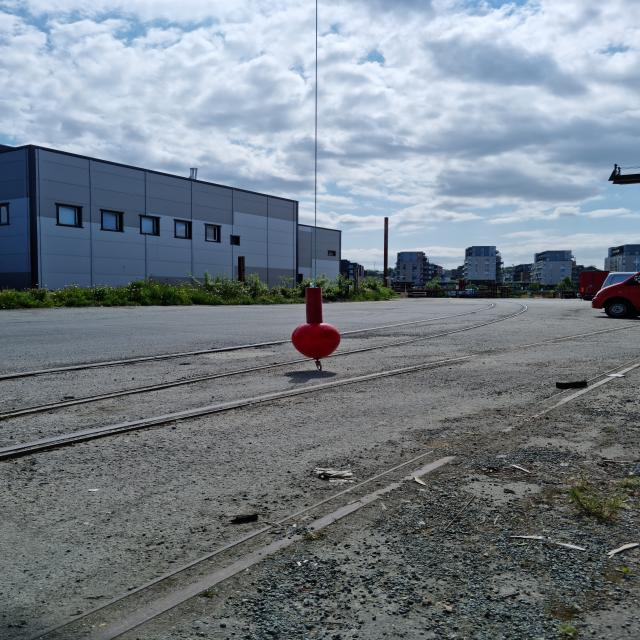red: (291, 287, 341, 358)
